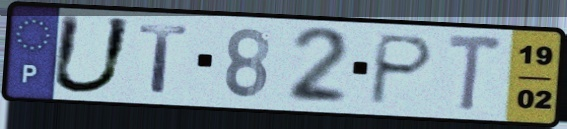2: (288, 24, 354, 107)
8: (221, 26, 273, 100)
P: (364, 31, 438, 108)
T: (444, 31, 507, 116), (136, 21, 192, 95)
U: (45, 11, 137, 97)
